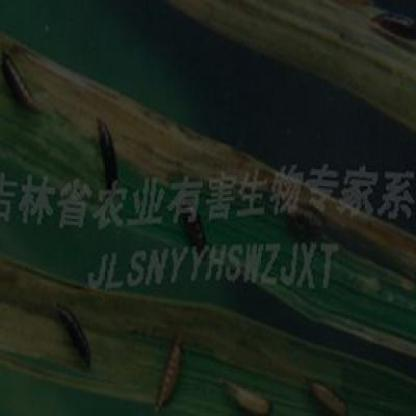whorl-maggot: (52, 298, 97, 378), (150, 326, 188, 415), (1, 44, 42, 123), (218, 370, 274, 416), (302, 370, 352, 416), (91, 113, 125, 174), (369, 2, 416, 42)
